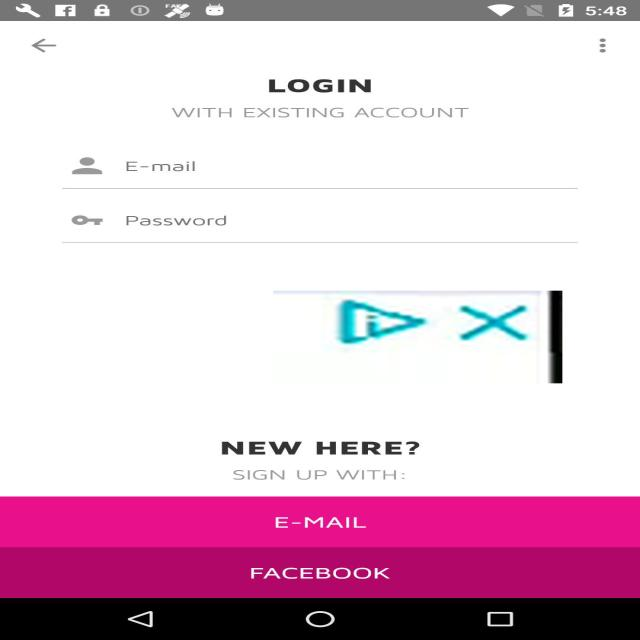sneaking: (274, 291, 562, 383)
